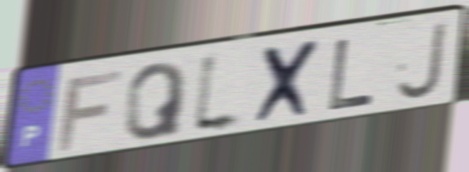F: (54, 67, 125, 155)
J: (393, 19, 449, 103)
L: (189, 47, 247, 140), (325, 36, 377, 115)
Q: (122, 59, 191, 143)
X: (251, 36, 326, 128)
